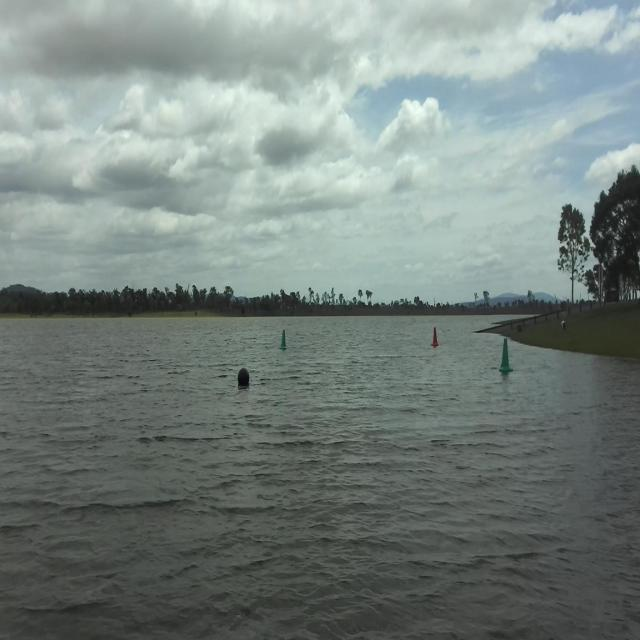Black_Buoy: (230, 361, 264, 396)
Green_Buoy: (492, 339, 520, 384), (275, 322, 299, 358)
Red_Buoy: (425, 324, 443, 358)
